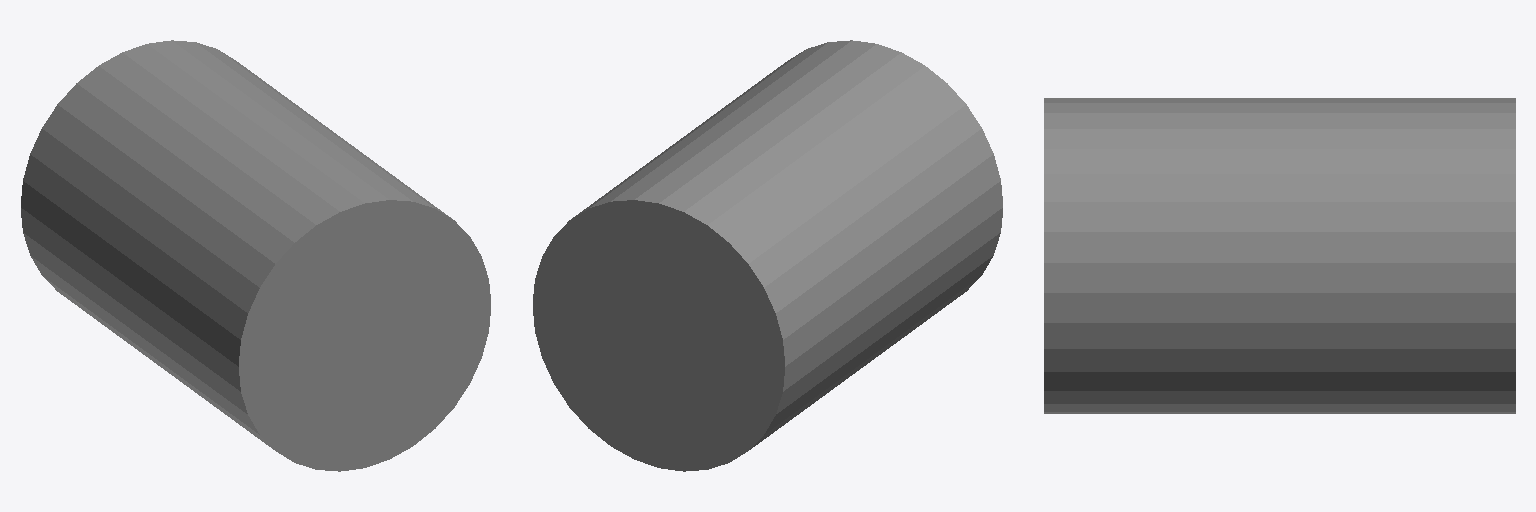
robot.urdf — obj_model:
<?xml version="1.0" ?>
<robot name="obj_model">

  <!-- Link that contains the object -->
  <link name="obj_link">
    <!-- Visual Shape: 3D mesh from the .obj file -->
    <visual>
      <geometry>
        <mesh filename="conserve.obj"/>  <!-- Path to the .obj file -->
      </geometry>
      <material name="default_material">
        <color rgba="0.6 0.6 0.6 1"/>  <!-- You can set the default color if no texture is available -->
      </material>
    </visual>
    
    <!-- Collision Shape: Mesh for collision -->
    <collision>
      <geometry>
        <mesh filename="conserve.obj"/>  <!-- Path to the .obj file -->
      </geometry>
    </collision>
    
    <!-- Inertial properties: Mass and Inertia -->
    <inertial>
      <mass value="1.0"/>  <!-- You can adjust the mass as per your object -->
      <inertia ixx="0.1" ixy="0" ixz="0" iyy="0.1" iyz="0" izz="0.1"/> <!-- Adjust inertia -->
    </inertial>
  </link>

</robot>

--- Facts derived from the render (not from the file) ---
Views: 3 orthographic renders of the robot side by side, from view 1: azimuth 30°, elevation 25°; view 2: azimuth 150°, elevation 25°; view 3: azimuth 270°, elevation 25°.
Robot: obj_model — 1 links, 0 joints (none); root link obj_link; default pose: all joints at 0.
Visible links, largest first — view 1: obj_link; view 2: obj_link; view 3: obj_link.
Link boxes in pixels (x1,y1,x2,y2): obj_link: (21, 40, 490, 471); obj_link: (533, 40, 1002, 471); obj_link: (1044, 98, 1515, 413).
Bounding box of the posed robot: 0.073 × 0.109 × 0.073 m (x, y, z).
Meshes: 1 distinct files referenced, 1 mesh visuals loaded (1 OBJ).